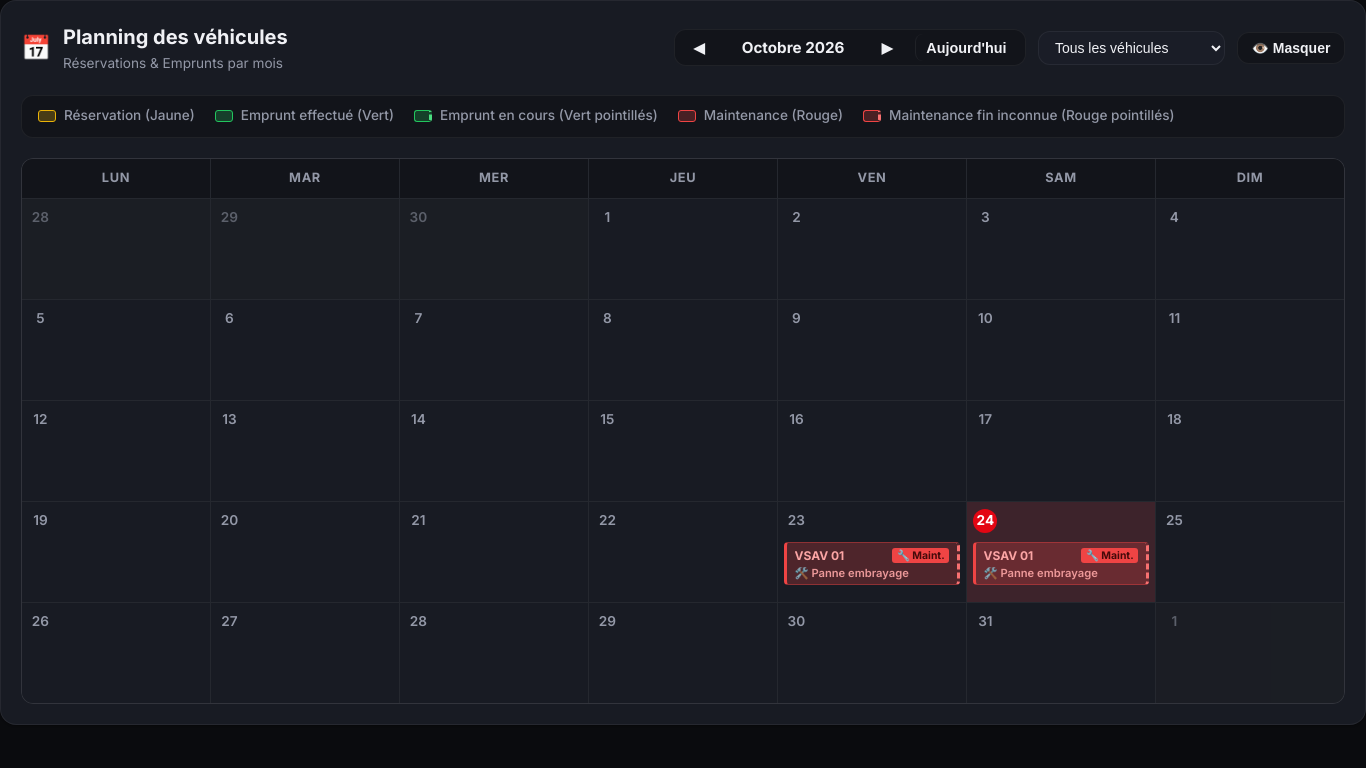
Scenario: VehicleCalendar — modifier / supprimer une maintenance › masque les actions pour un non-ADMIN
Click the element titled "Panne embrayage" at (872, 564), box [784,542,960,585]
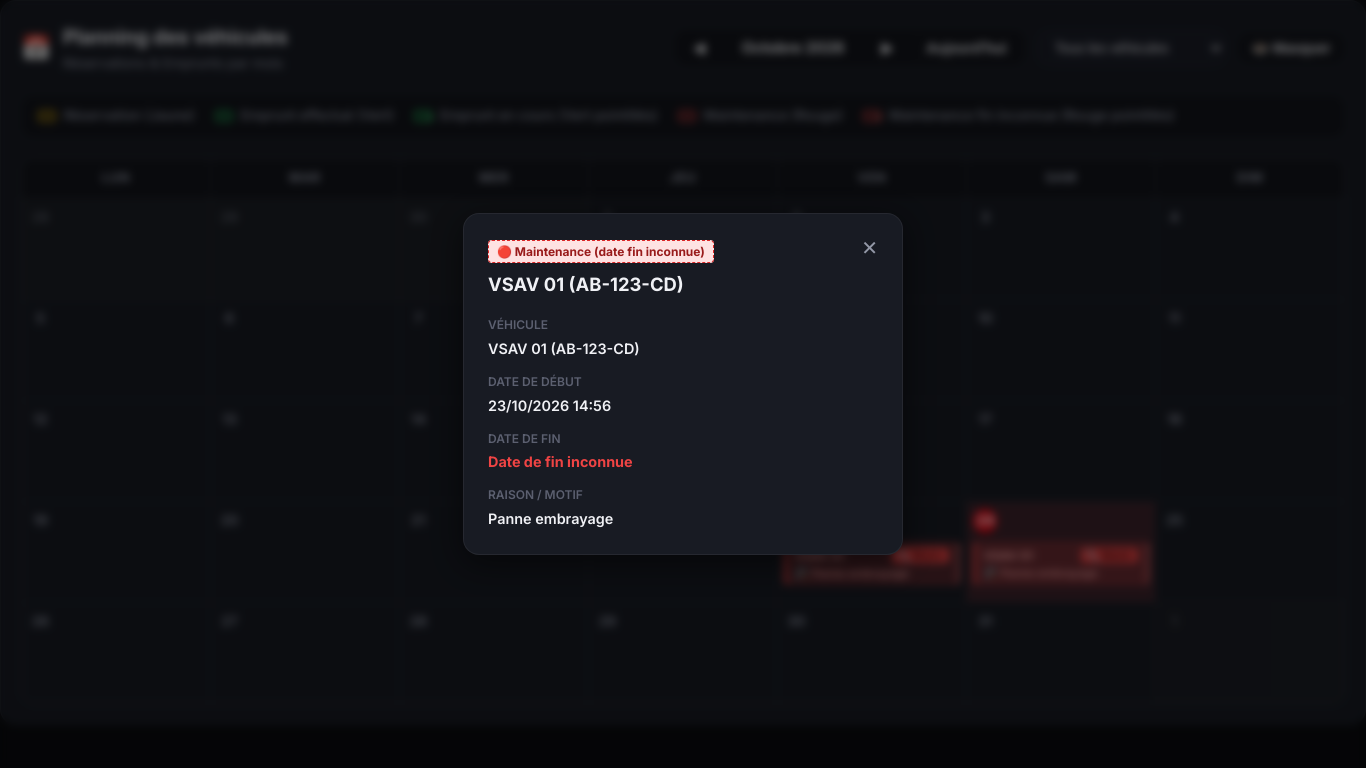
Result: the text "Raison / Motif" is shown at [488,487,583,502]
Result: the text "Panne embrayage" is shown at [488,510,613,527]
